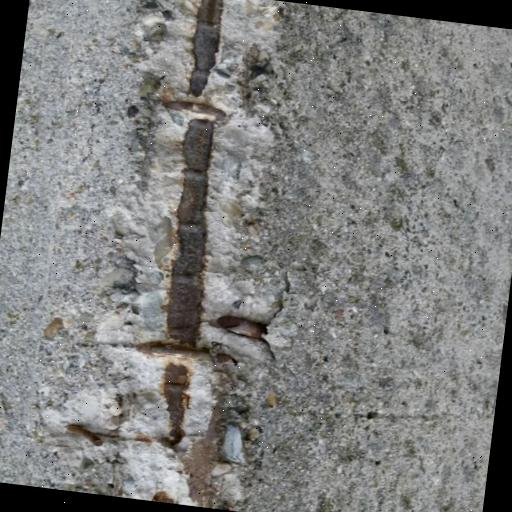spalling: (108, 0, 266, 506)
